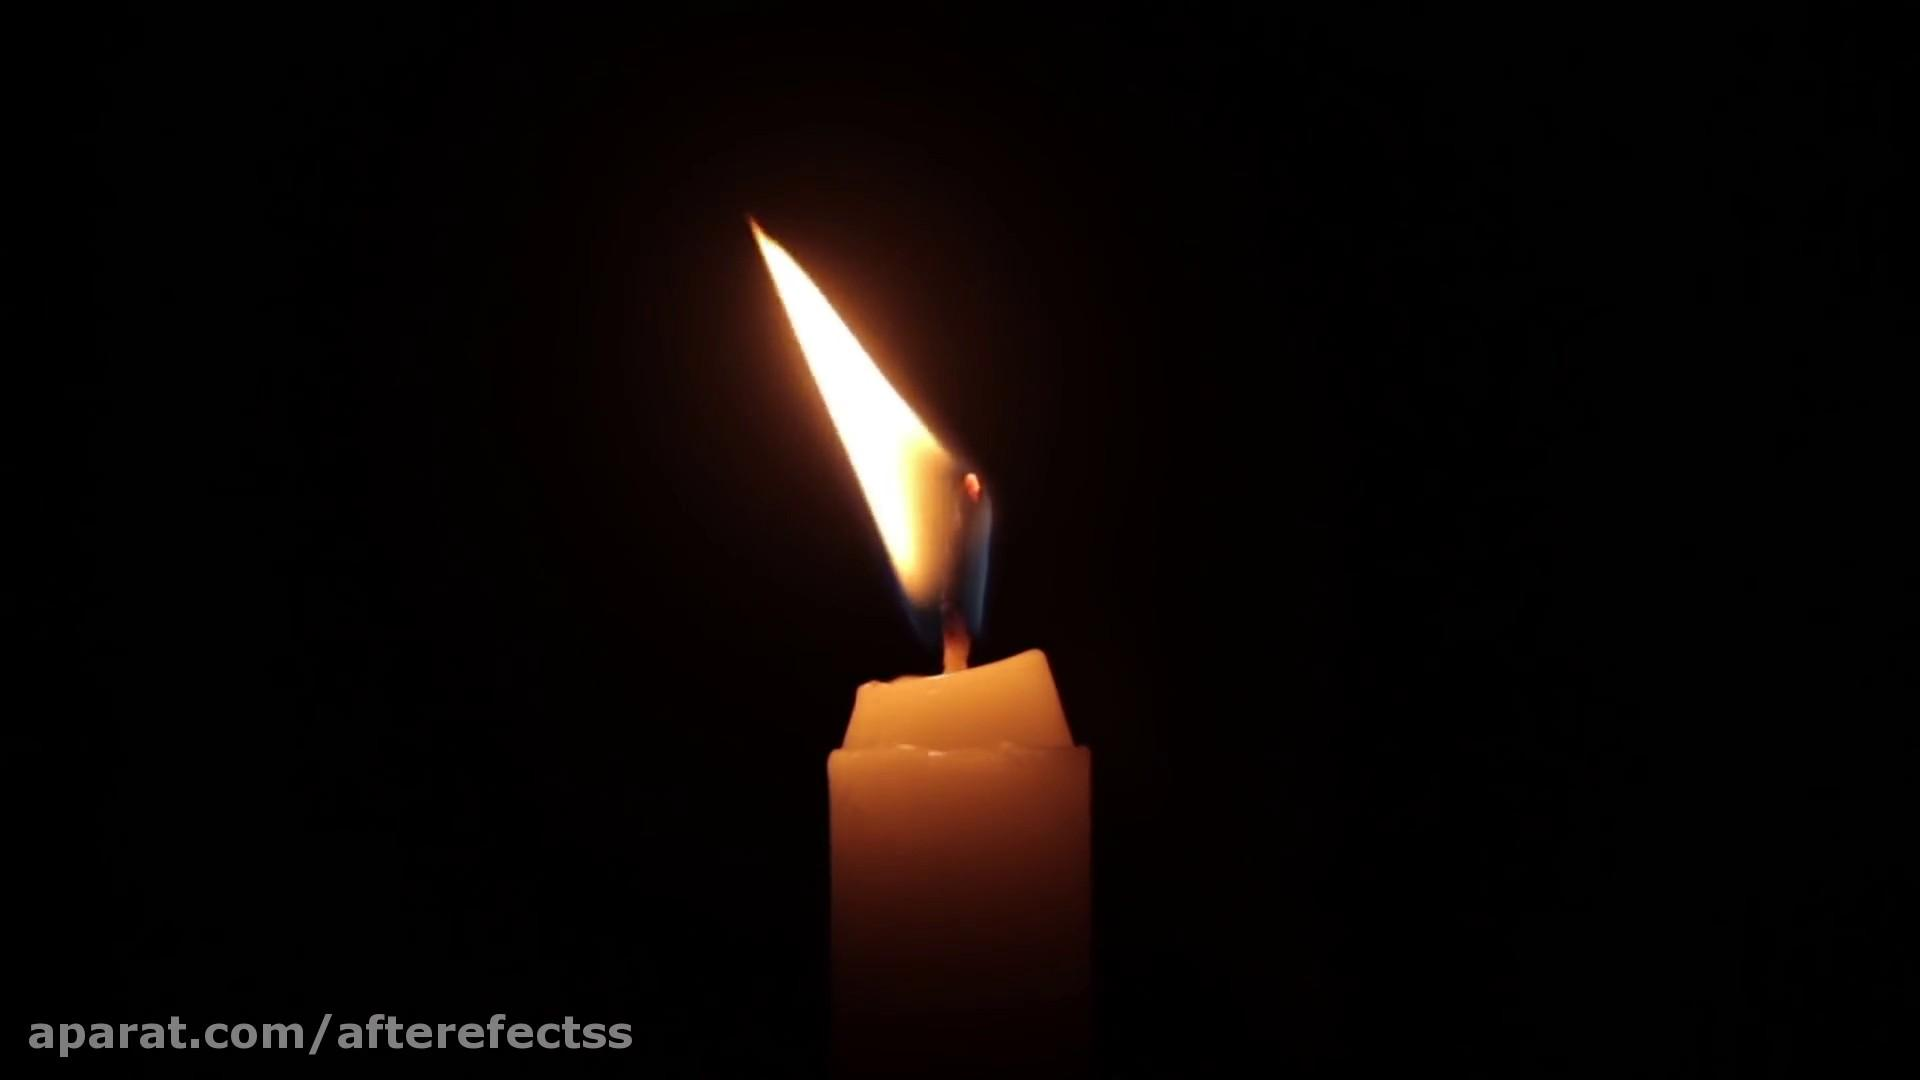fire: (713, 167, 1033, 645)
